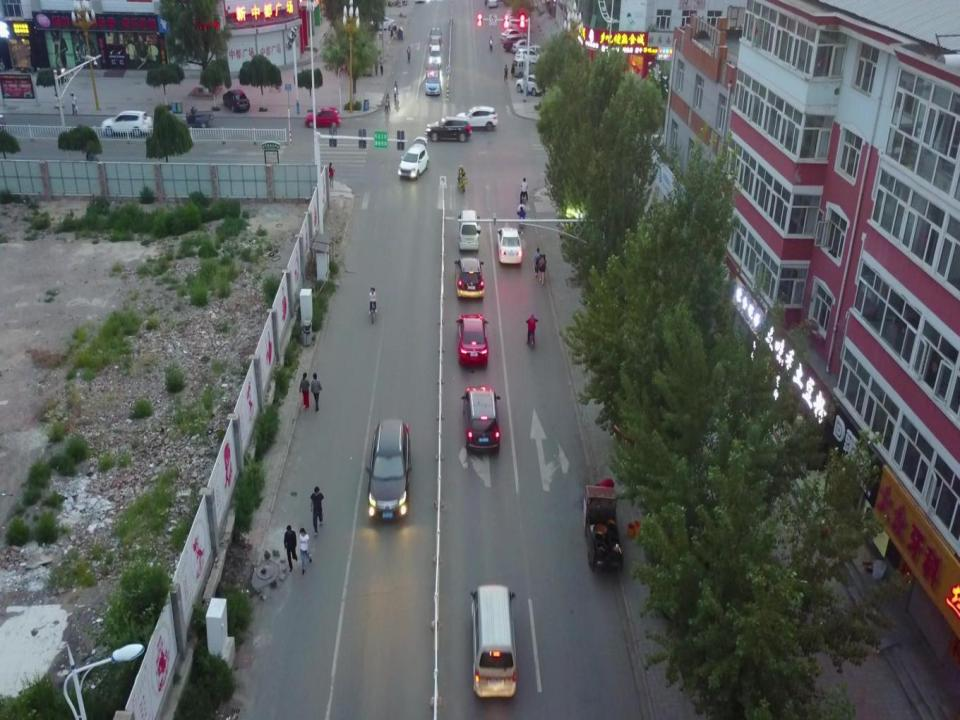car: (364, 418, 411, 519), (460, 385, 501, 452), (456, 312, 488, 364), (100, 109, 152, 135), (398, 135, 429, 178), (454, 256, 484, 300), (425, 117, 472, 143), (454, 105, 497, 132), (496, 226, 522, 266), (515, 72, 547, 96), (305, 107, 339, 129), (222, 89, 250, 113), (514, 48, 540, 67), (528, 44, 552, 64), (363, 16, 394, 31), (504, 36, 532, 52), (500, 28, 528, 44), (512, 38, 536, 55), (424, 72, 441, 95), (428, 45, 442, 69), (425, 62, 440, 81), (429, 26, 442, 44), (429, 38, 441, 52)
truck: (582, 483, 622, 571)
van: (471, 585, 517, 700), (457, 209, 480, 251), (512, 58, 536, 79)
